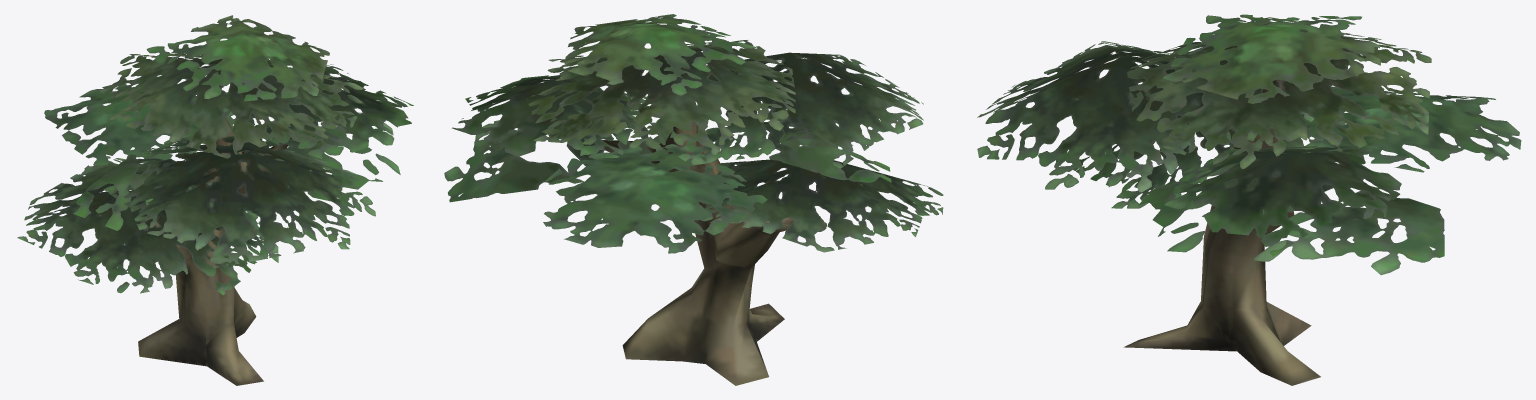
Rendered from tree_armello_low_019.fbx.
The picture shows the model from 3 angles, left to right: view 1: azimuth 30°, elevation 25°; view 2: azimuth 150°, elevation 25°; view 3: azimuth 270°, elevation 25°; orthographic projection. The views are drawn at different scales.
Visible parts, largest first — view 1: polySurface291; view 2: polySurface291; view 3: polySurface291.
Part boxes in pixels (x1,y1,x2,y2): polySurface291: (17, 15, 413, 385); polySurface291: (444, 14, 943, 385); polySurface291: (977, 14, 1521, 385).
Bounding box in the file's own units: 20.09 × 13.77 × 19.62.
